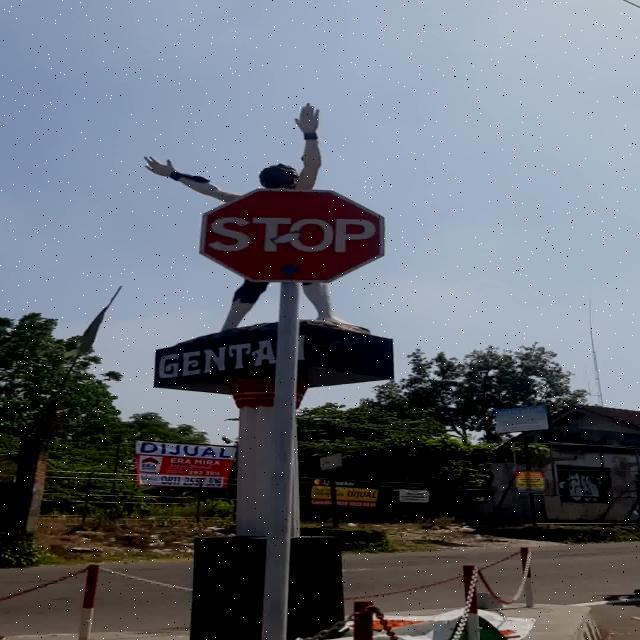Berhenti: (200, 188, 383, 282)
